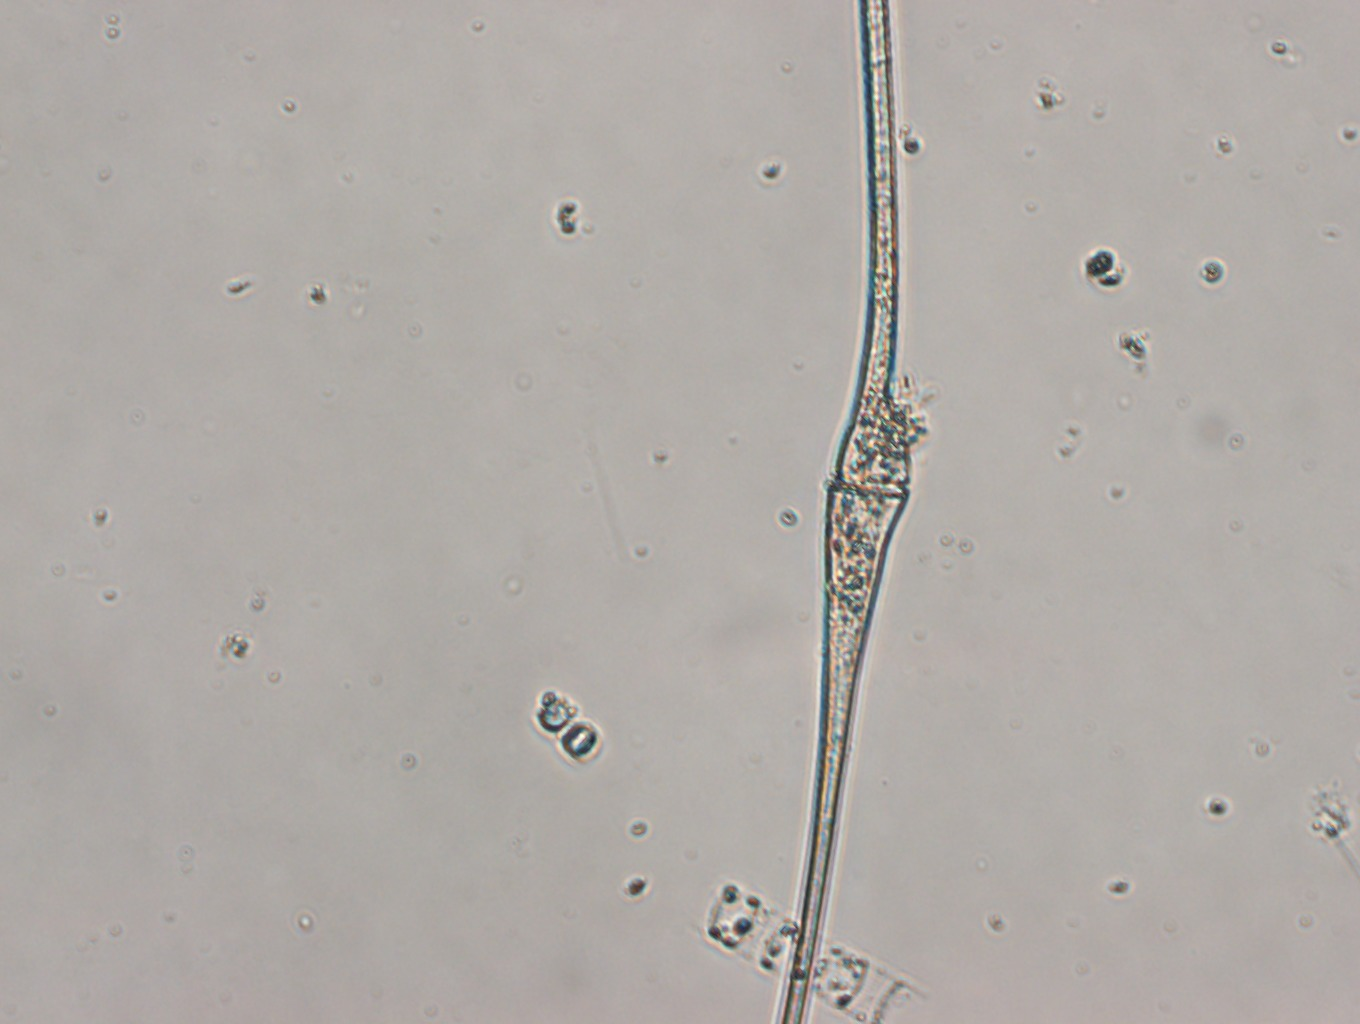ceratium fusus: (775, 1, 920, 1024)
skeletonema: (701, 885, 924, 1024)
